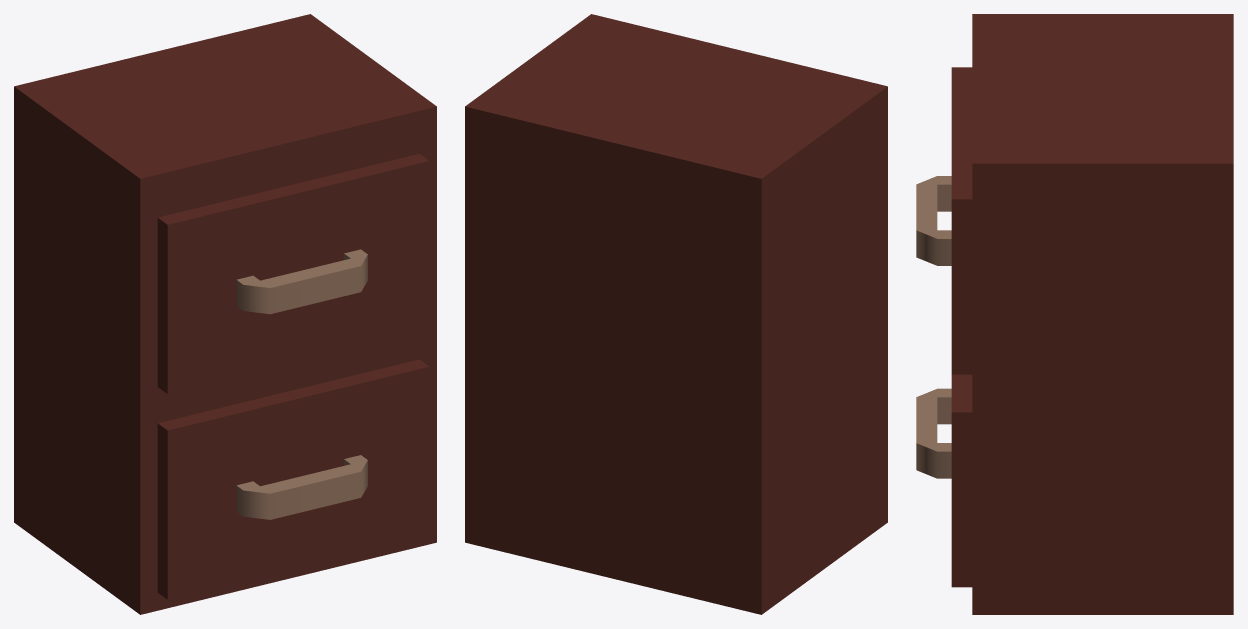
File: SM_SideTable.fbx
3 views of the same model, side by side, from view 1: azimuth 30°, elevation 25°; view 2: azimuth 150°, elevation 25°; view 3: azimuth 270°, elevation 25° (orthographic). The views are drawn at different scales.
Visible parts, largest first — view 1: SM_SideTable; view 2: SM_SideTable; view 3: SM_SideTable.
Part boxes in pixels (x1,y1,x2,y2): SM_SideTable: (14, 14, 436, 614); SM_SideTable: (465, 14, 887, 614); SM_SideTable: (916, 14, 1233, 614).
Size of the model in its own units: 0.649 by 0.9118 by 0.5817.
